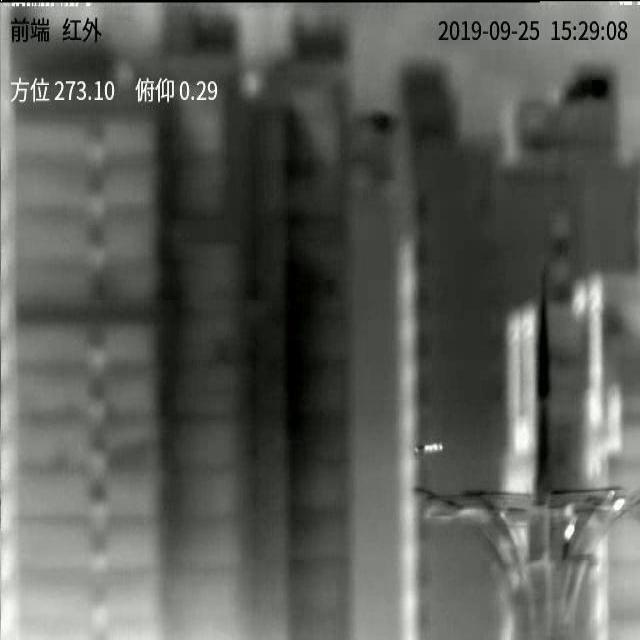drone: (414, 442, 445, 454)
